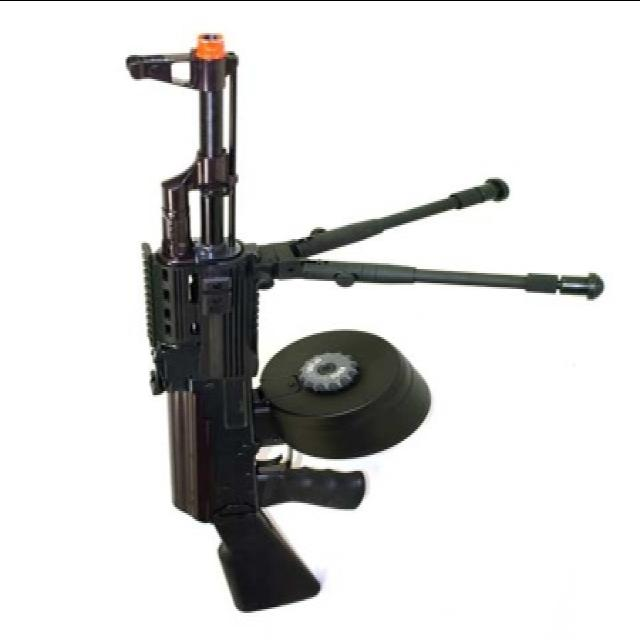rifle: (91, 9, 557, 627)
